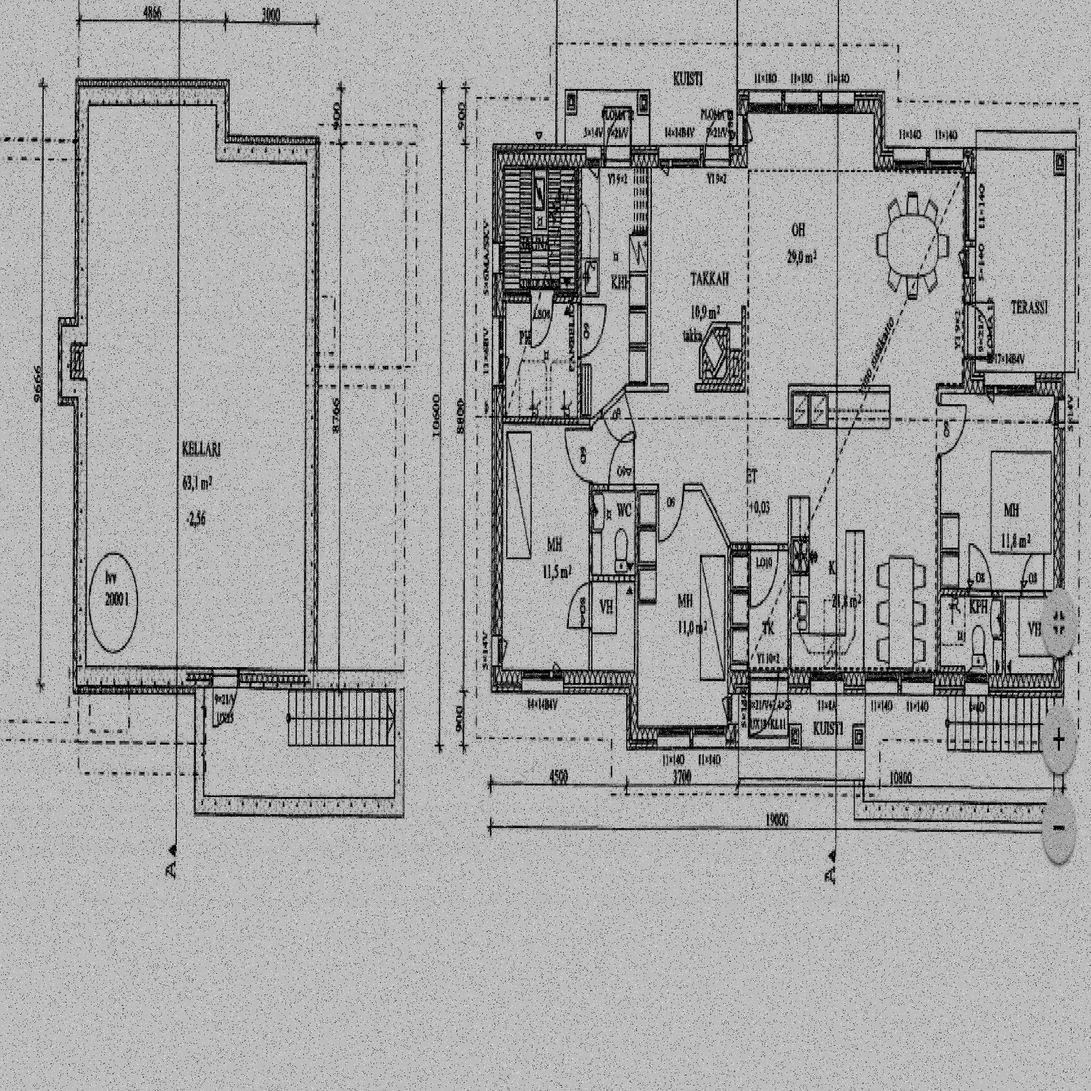wall: (307, 136, 319, 691), (492, 143, 748, 168), (728, 673, 937, 698), (195, 797, 404, 818), (73, 377, 86, 693), (854, 804, 1065, 823), (75, 80, 229, 106), (1054, 372, 1065, 698), (737, 90, 885, 114), (72, 667, 205, 693), (75, 80, 88, 344), (492, 670, 639, 693), (492, 423, 504, 693), (964, 148, 977, 394), (216, 136, 319, 161), (627, 726, 738, 749), (205, 666, 307, 690), (965, 674, 1065, 698), (964, 372, 1065, 394), (699, 484, 732, 550), (874, 148, 976, 169), (492, 143, 505, 293), (307, 670, 404, 690), (492, 293, 506, 422), (58, 344, 83, 406), (195, 667, 205, 818), (394, 670, 404, 818), (592, 384, 629, 423), (1055, 698, 1065, 823), (937, 386, 941, 698), (493, 290, 582, 303), (575, 143, 582, 303), (216, 80, 229, 161), (647, 143, 651, 391), (627, 669, 639, 749), (937, 666, 965, 698), (937, 589, 1065, 596), (874, 90, 885, 170), (737, 90, 748, 168), (728, 673, 739, 749), (58, 378, 86, 406), (58, 318, 88, 344), (635, 484, 639, 670), (492, 416, 593, 423), (589, 484, 592, 694), (730, 350, 745, 391), (788, 386, 889, 392), (577, 290, 581, 423), (58, 318, 77, 344), (788, 543, 791, 698), (728, 543, 731, 698), (635, 484, 701, 491), (1002, 589, 1006, 698), (731, 543, 791, 550), (854, 781, 863, 823), (588, 575, 638, 582), (695, 384, 745, 391), (588, 484, 638, 491), (628, 384, 668, 391), (589, 416, 592, 491), (937, 386, 964, 394), (788, 386, 792, 428), (788, 497, 791, 551), (742, 306, 745, 351)
